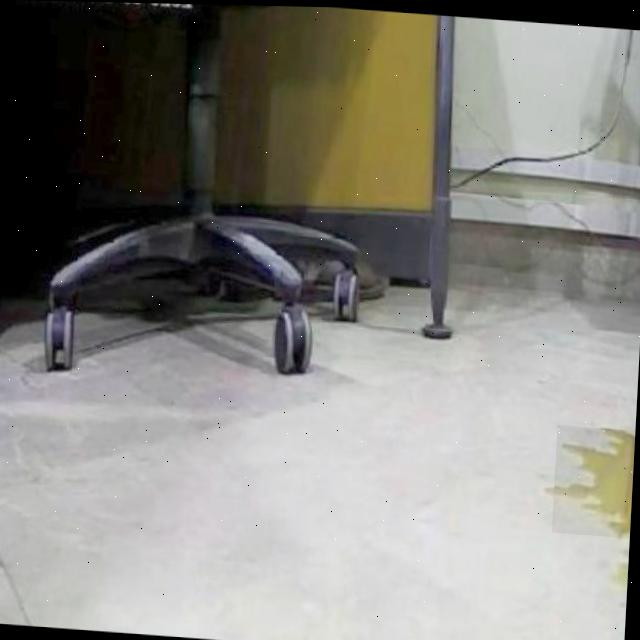spillage: (554, 426, 635, 534), (619, 547, 629, 582)
